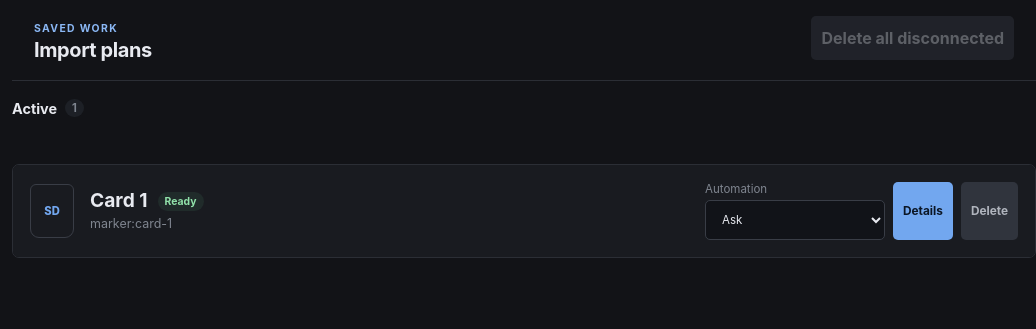
Test: PlansPanel › enables automatic copying for an identified card and persists it
Select "Copy automatically" in the dropdown named "Automation for Card 1" at (795, 220), box [705, 200, 885, 240]
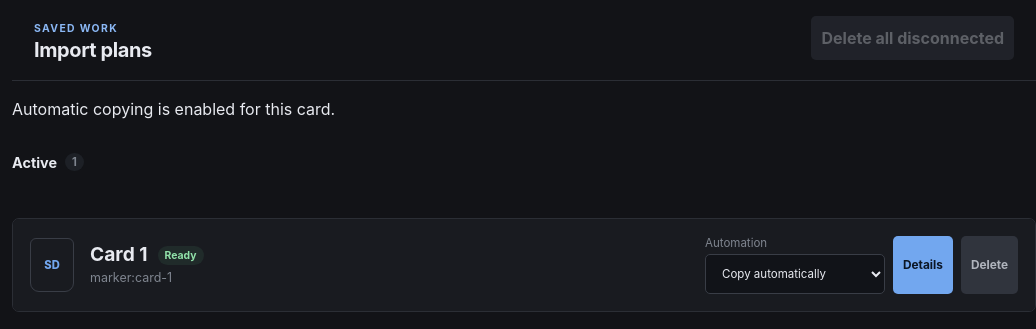
Expected: the text "Automatic copying is enabled for this card." is shown, [12, 99, 335, 119]
